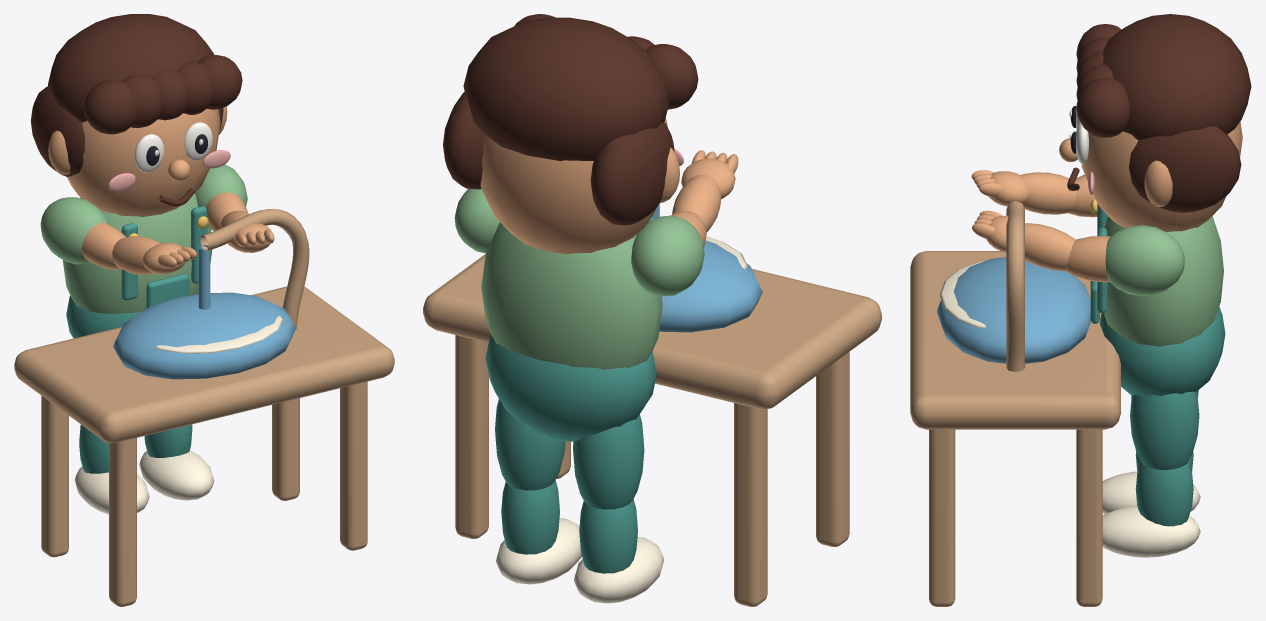
File: daddy-wash.glb
The picture shows the model from 3 angles, left to right: view 1: azimuth 30°, elevation 25°; view 2: azimuth 150°, elevation 25°; view 3: azimuth 270°, elevation 25°; orthographic projection. The views are drawn at different scales.
Parts seen in each view (by area): view 1: table top, basin, hair cap, clay head, soft shirt, table leg.002, table leg, table leg.001, tap, shirt sleeve, little shoe.001, table leg.003 (+24 smaller); view 2: hair cap, table top, soft shirt, clay head, overalls, table leg.001, table leg.003, table leg, bob hair, basin, trouser leg, shirt sleeve (+11 smaller); view 3: table top, hair cap, basin, soft shirt, bob hair.001, overalls, clay head, table leg.003, table leg.002, trouser leg.001, shirt sleeve.001, little shoe.001 (+14 smaller).
Boxes of the visible parts, bbox=[...] form: table top: bbox=[14, 286, 394, 443]; basin: bbox=[113, 292, 295, 379]; hair cap: bbox=[48, 14, 214, 122]; clay head: bbox=[67, 108, 220, 216]; soft shirt: bbox=[62, 193, 212, 314]; table leg.002: bbox=[340, 381, 367, 550]; table leg: bbox=[109, 438, 136, 606]; table leg.001: bbox=[41, 395, 68, 557]; tap: bbox=[200, 209, 309, 329]; shirt sleeve: bbox=[40, 197, 109, 264]; little shoe.001: bbox=[139, 450, 214, 500]; table leg.003: bbox=[272, 398, 299, 500]; hair cap: bbox=[463, 17, 669, 160]; table top: bbox=[423, 254, 881, 409]; soft shirt: bbox=[481, 222, 662, 369]; clay head: bbox=[480, 118, 667, 254]; overalls: bbox=[485, 335, 656, 441]; table leg.001: bbox=[734, 403, 767, 606]; table leg.003: bbox=[455, 335, 488, 538]; table leg: bbox=[816, 352, 849, 546]; bob hair: bbox=[590, 122, 674, 225]; basin: bbox=[659, 240, 762, 332]; trouser leg: bbox=[573, 414, 644, 509]; shirt sleeve: bbox=[631, 215, 704, 296]; table top: bbox=[910, 251, 1120, 429]; hair cap: bbox=[1103, 14, 1251, 140]; basin: bbox=[937, 257, 1090, 363]; soft shirt: bbox=[1104, 216, 1223, 346]; bob hair.001: bbox=[1129, 126, 1241, 212]; overalls: bbox=[1100, 306, 1225, 396]; clay head: bbox=[1081, 121, 1242, 231]; table leg.003: bbox=[1076, 429, 1102, 606]; table leg.002: bbox=[929, 429, 955, 606]; trouser leg.001: bbox=[1130, 392, 1199, 469]; shirt sleeve.001: bbox=[1105, 225, 1184, 295]; little shoe.001: bbox=[1102, 505, 1200, 557].
Bounding box in the file's own units: 1.4 × 2.17 × 1.3.
